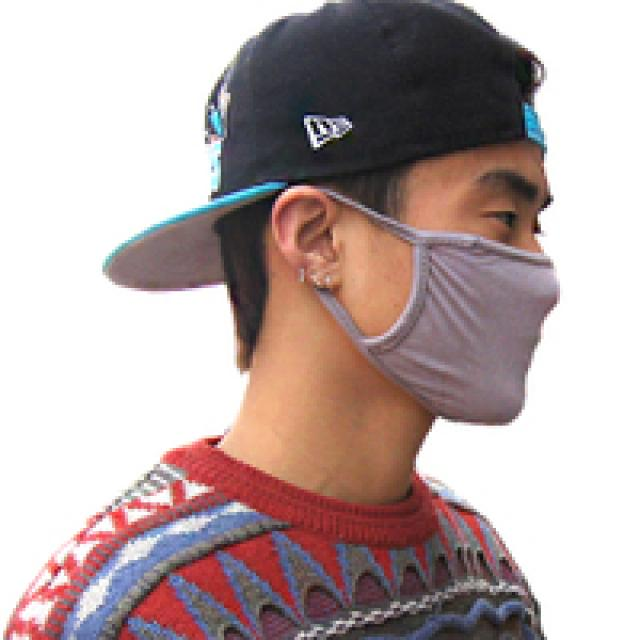mask: (365, 98, 557, 420)
